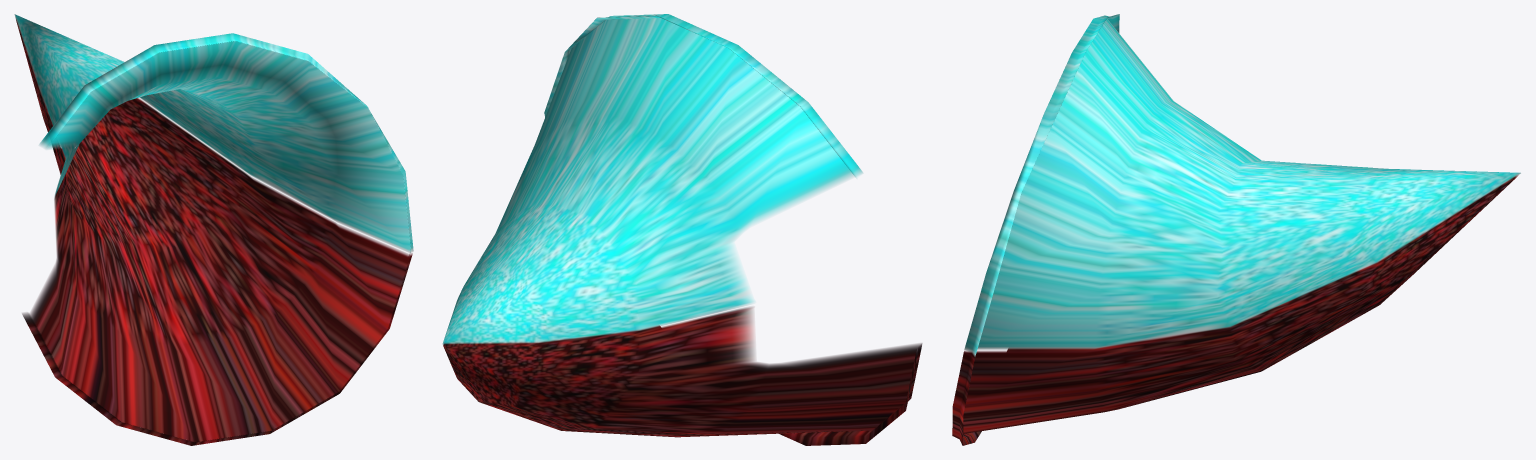
3 renders of one model, left to right at view 1: azimuth 30°, elevation 25°; view 2: azimuth 150°, elevation 25°; view 3: azimuth 270°, elevation 25°, orthographic. The views are drawn at different scales.
Parts seen in each view (by area): view 1: SM_Exploding_Plant_Trap_Spike_01_LOD0; view 2: SM_Exploding_Plant_Trap_Spike_01_LOD0; view 3: SM_Exploding_Plant_Trap_Spike_01_LOD0.
Part boxes in pixels (left/top/right/bottom): SM_Exploding_Plant_Trap_Spike_01_LOD0: left=14, top=14, right=413, bottom=445; SM_Exploding_Plant_Trap_Spike_01_LOD0: left=442, top=14, right=922, bottom=445; SM_Exploding_Plant_Trap_Spike_01_LOD0: left=952, top=14, right=1520, bottom=445.
Size of the model in its own units: 0.1557 by 0.1555 by 0.2002.
Materials: 1 (1 with a texture image).
